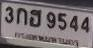letters: (30, 9, 42, 27), (16, 8, 28, 25), (46, 12, 56, 29), (5, 6, 14, 23), (58, 13, 67, 30), (81, 17, 90, 33), (70, 16, 78, 32)
province: (14, 32, 78, 46)
